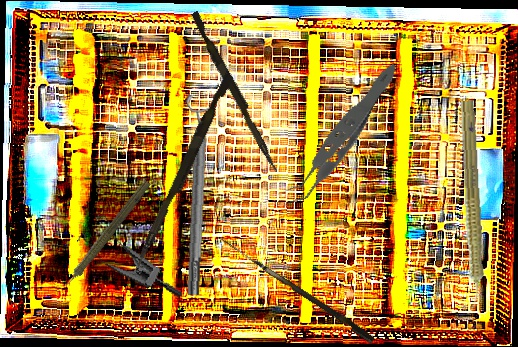Fixation Ring: (175, 94, 219, 296)
Handpiece: (53, 176, 154, 298), (451, 99, 490, 315)
Hook Surgical: (215, 237, 377, 344)
Pusher: (134, 71, 234, 271), (186, 10, 285, 174)
Speculum: (70, 209, 198, 299)
Tissue Forceps: (246, 63, 429, 209)
